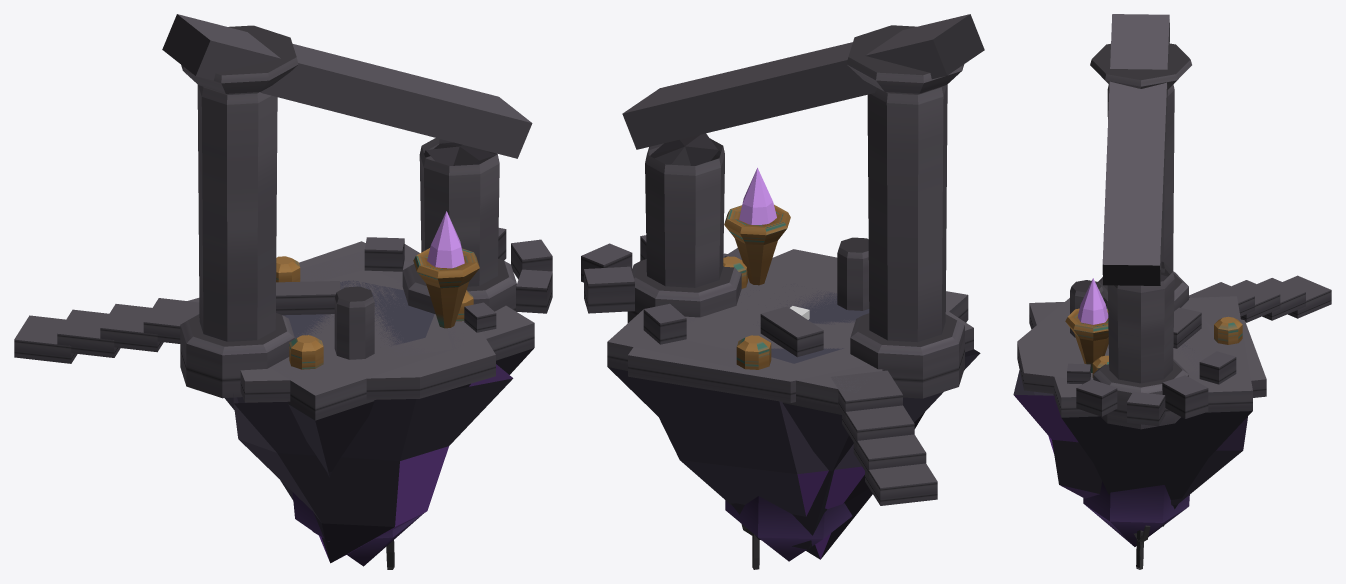
File: OriginAbyss_Kit.fbx
3 renders of one model, left to right at view 1: azimuth 30°, elevation 25°; view 2: azimuth 150°, elevation 25°; view 3: azimuth 270°, elevation 25°, orthographic. The views are drawn at different scales.
Visible parts, largest first — view 1: OA_GateOfDescent, OA_ShardFloor, OA_DescentLedge, OA_RuinFragment, OA_RouteStone, OA_VoidFlame; view 2: OA_GateOfDescent, OA_ShardFloor, OA_DescentLedge, OA_RuinFragment, OA_RouteStone, OA_VoidFlame; view 3: OA_GateOfDescent, OA_DescentLedge, OA_ShardFloor, OA_RouteStone, OA_RuinFragment, OA_VoidFlame.
Part boxes in pixels (x1=…): OA_GateOfDescent: x1=162, y1=14, x2=552, y2=398; OA_ShardFloor: x1=233, y1=241, x2=513, y2=563; OA_DescentLedge: x1=14, y1=244, x2=534, y2=533; OA_RuinFragment: x1=276, y1=270, x2=452, y2=569; OA_RouteStone: x1=283, y1=280, x2=434, y2=566; OA_VoidFlame: x1=427, y1=211, x2=464, y2=268; OA_GateOfDescent: x1=581, y1=14, x2=984, y2=398; OA_ShardFloor: x1=628, y1=249, x2=980, y2=559; OA_DescentLedge: x1=607, y1=204, x2=968, y2=549; OA_RuinFragment: x1=685, y1=237, x2=869, y2=569; OA_RouteStone: x1=725, y1=284, x2=869, y2=561; OA_VoidFlame: x1=739, y1=167, x2=776, y2=224; OA_GateOfDescent: x1=1067, y1=14, x2=1236, y2=429; OA_DescentLedge: x1=1029, y1=275, x2=1331, y2=526; OA_ShardFloor: x1=1013, y1=298, x2=1266, y2=506; OA_RouteStone: x1=1083, y1=344, x2=1189, y2=546; OA_RuinFragment: x1=1063, y1=280, x2=1216, y2=569; OA_VoidFlame: x1=1078, y1=278, x2=1108, y2=324.
Bounding box in the file's own units: 25.85 × 32.95 × 19.92.
Materials: 1 (1 with a texture image).
